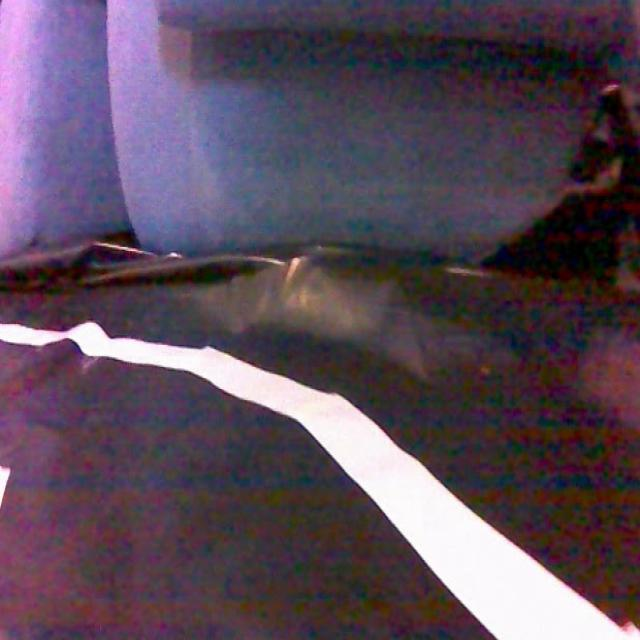LineaCarril: (0, 322, 640, 640), (0, 463, 10, 507)
